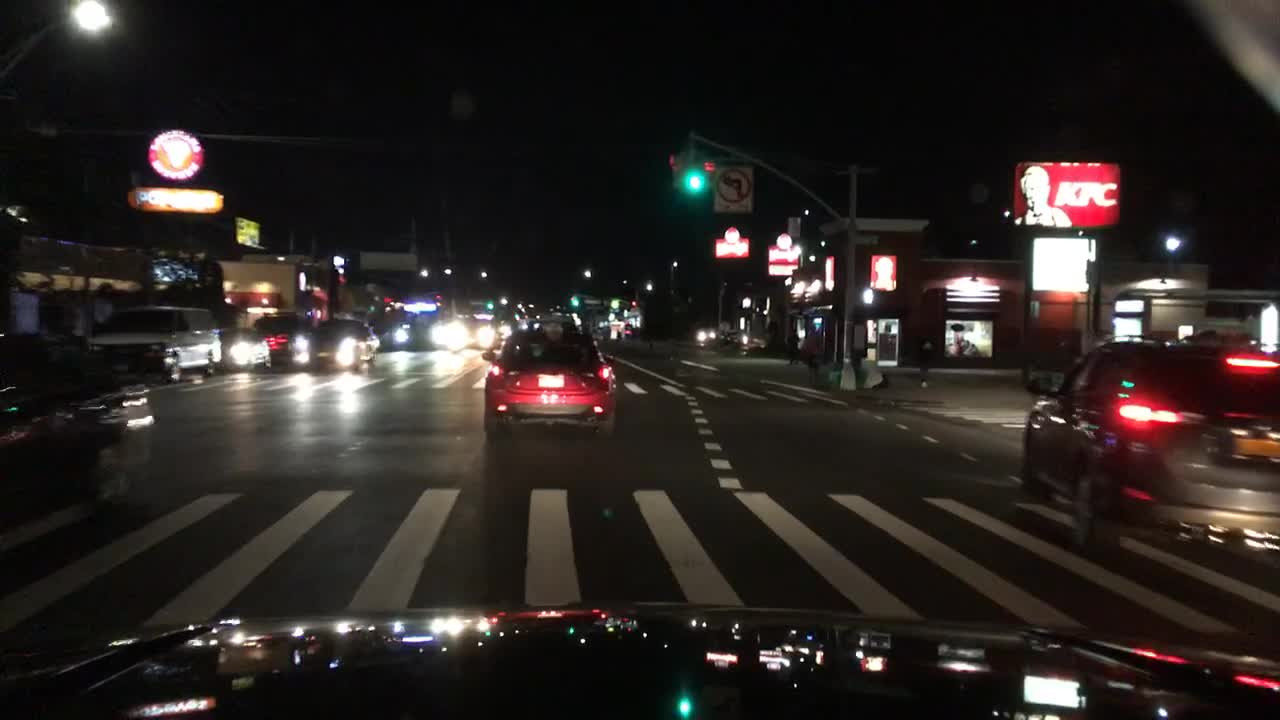car: (1020, 335, 1278, 561), (0, 331, 152, 529), (480, 330, 617, 444), (92, 308, 220, 381), (288, 315, 381, 369), (254, 311, 313, 370), (220, 328, 268, 373), (445, 318, 509, 348), (394, 318, 444, 351), (527, 318, 578, 333), (692, 326, 724, 342)
person: (801, 326, 823, 388), (915, 333, 935, 391), (784, 326, 801, 365)
traffic light: (666, 152, 683, 192), (701, 158, 717, 193), (686, 154, 701, 190), (857, 288, 875, 306), (571, 295, 581, 308)
traffic sign: (710, 160, 754, 212), (849, 229, 877, 246)
